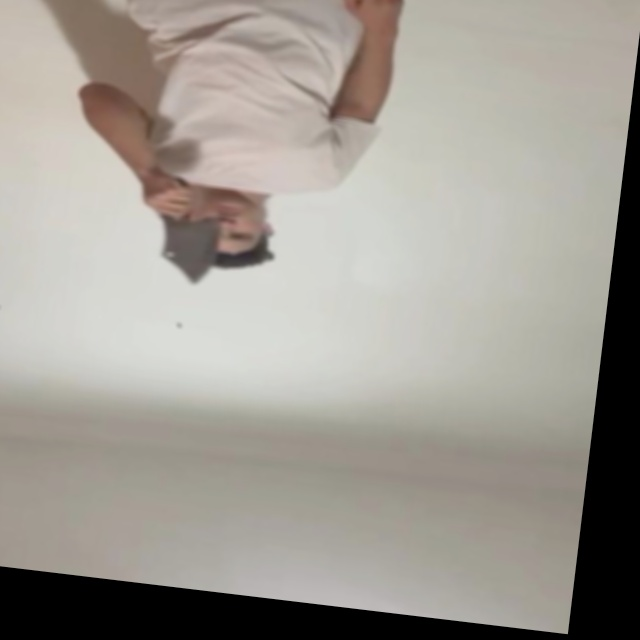Sharp-Object: (154, 214, 220, 285)
